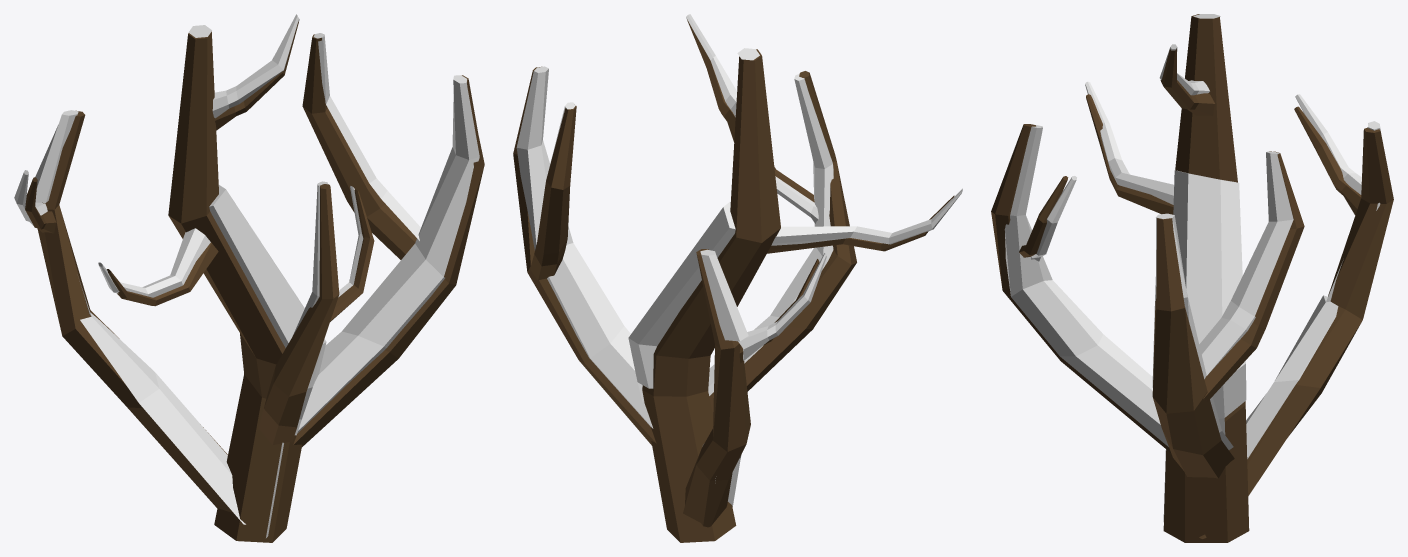
Rendered from magnoliaZima.fbx.
3 views of the same model, side by side, from view 1: azimuth 30°, elevation 25°; view 2: azimuth 150°, elevation 25°; view 3: azimuth 270°, elevation 25° (orthographic). The views are drawn at different scales.
Parts seen in each view (by area): view 1: Magnolia_winter; view 2: Magnolia_winter; view 3: Magnolia_winter.
Boxes of the visible parts, left/top/right/bottom form: Magnolia_winter: left=14, top=14, right=484, bottom=542; Magnolia_winter: left=513, top=14, right=962, bottom=542; Magnolia_winter: left=991, top=14, right=1393, bottom=542.
Size of the model in its own units: 1.28 by 1.49 by 1.08.
